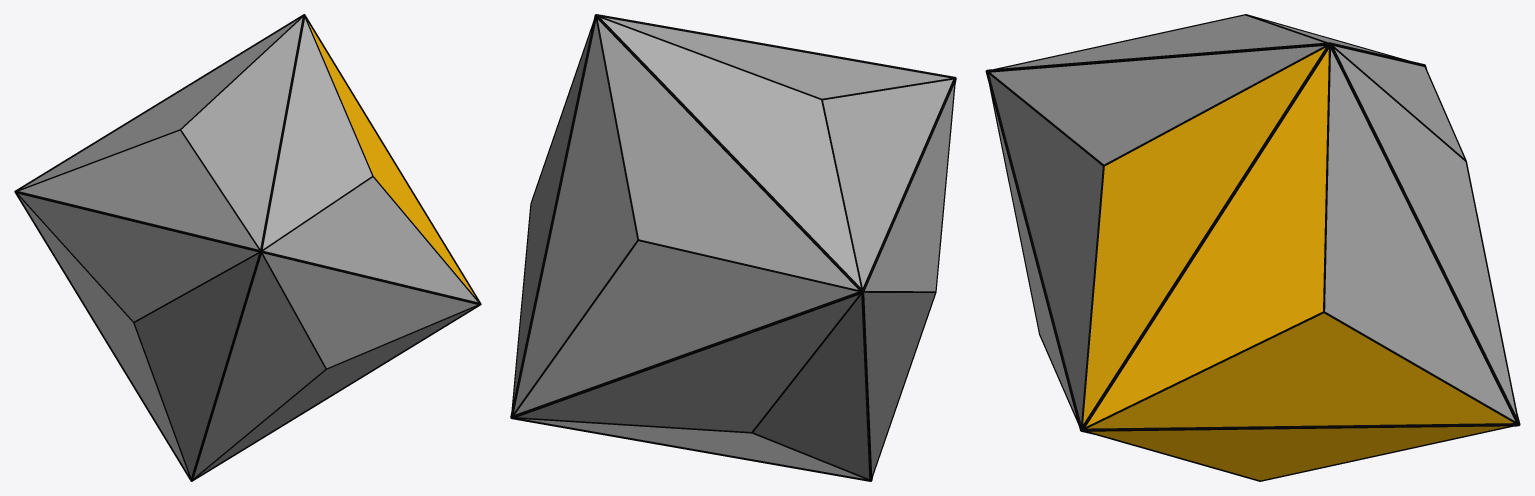
The model's file is polyformsTriOctRot_4_2.glb.
The picture shows the model from 3 angles, left to right: view 1: azimuth 30°, elevation 25°; view 2: azimuth 150°, elevation 25°; view 3: azimuth 270°, elevation 25°; orthographic projection. The views are drawn at different scales.
Size of the model in its own units: 3.97 by 4.28 by 3.97.
